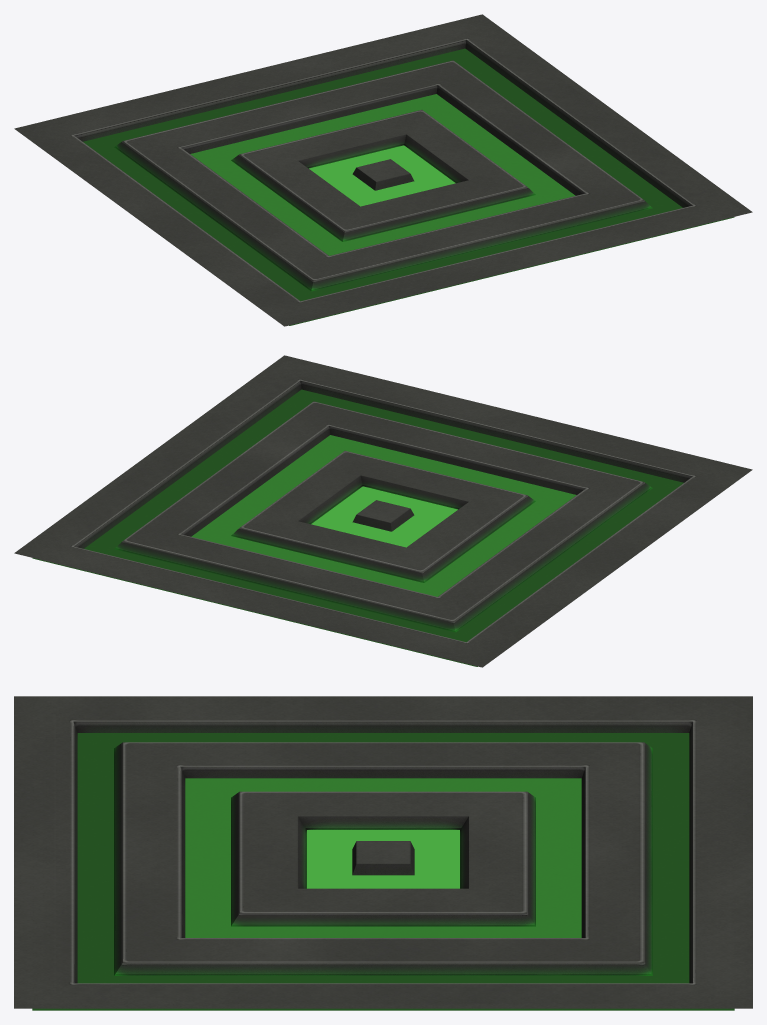
The model's file is Jump.FBX.
3 views of the same model, one above another, from view 1: azimuth 30°, elevation 25°; view 2: azimuth 150°, elevation 25°; view 3: azimuth 270°, elevation 25° (orthographic). The views are drawn at different scales.
Visible parts, largest first — view 1: jump, jump_move; view 2: jump, jump_move; view 3: jump, jump_move.
Part boxes in pixels (x1,y1,x2,y2): jump: (14,14,752,326); jump_move: (83,48,734,325); jump: (14,355,752,667); jump_move: (32,389,683,666); jump: (14,696,752,1008); jump_move: (32,733,734,1010).
Size of the model in its own units: 100 by 3.54 by 100.
Materials: 2 (2 with a texture image).
